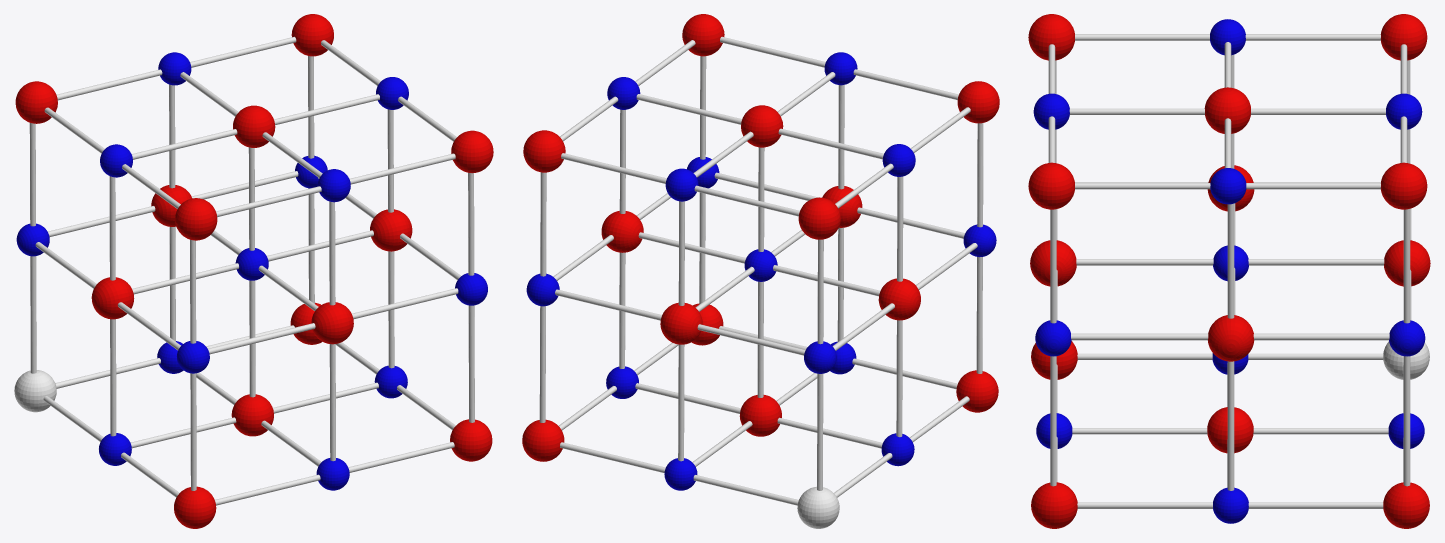
Rendered from iyonik kristal.gltf.
3 renders of one model, left to right at view 1: azimuth 30°, elevation 25°; view 2: azimuth 150°, elevation 25°; view 3: azimuth 270°, elevation 25°, orthographic. The views are drawn at different scales.
Parts seen in each view (by area): view 1: Sphere.007, Sphere.020, Sphere.003, Sphere.006, Sphere.023, Sphere.015, Sphere.012, Sphere.010, Sphere.017, Sphere.013, Sphere.027, Sphere.025 (+50 smaller); view 2: Sphere.015, Sphere.017, Sphere.010, Sphere.008, Sphere.029, Sphere.007, Sphere.003, Sphere.012, Sphere.020, Sphere.013, Sphere.027, Sphere.025 (+50 smaller); view 3: Sphere.020, Sphere.017, Sphere.006, Sphere.008, Sphere.025, Sphere.012, Sphere.007, Sphere.015, Sphere.023, Sphere.013, Sphere.029, Cylinder.053 (+34 smaller).
Boxes of the visible parts, x1,y1,x2,y2 form: Sphere.007: (175, 198, 217, 240); Sphere.020: (451, 130, 493, 173); Sphere.003: (174, 486, 216, 528); Sphere.006: (450, 419, 492, 461); Sphere.023: (311, 302, 353, 344); Sphere.015: (15, 81, 57, 123); Sphere.012: (233, 105, 275, 147); Sphere.010: (14, 370, 56, 412); Sphere.017: (291, 14, 333, 56); Sphere.013: (231, 394, 273, 436); Sphere.027: (91, 277, 134, 319); Sphere.025: (370, 209, 412, 251); Sphere.015: (798, 197, 840, 239); Sphere.017: (523, 130, 565, 172); Sphere.010: (797, 486, 839, 528); Sphere.008: (522, 419, 564, 461); Sphere.029: (660, 302, 702, 344); Sphere.007: (957, 81, 999, 123); Sphere.003: (956, 370, 998, 412); Sphere.012: (741, 105, 783, 147); Sphere.020: (682, 14, 724, 56); Sphere.013: (739, 395, 781, 436); Sphere.027: (878, 278, 920, 320); Sphere.025: (601, 211, 643, 252); Sphere.020: (1028, 162, 1074, 209); Sphere.017: (1380, 162, 1427, 209); Sphere.006: (1031, 482, 1077, 528); Sphere.008: (1383, 482, 1429, 528); Sphere.025: (1208, 315, 1254, 361); Sphere.012: (1204, 87, 1250, 133); Sphere.007: (1028, 14, 1074, 60); Sphere.015: (1380, 14, 1427, 60); Sphere.023: (1030, 240, 1076, 286); Sphere.013: (1207, 407, 1253, 453); Sphere.029: (1384, 240, 1430, 286); Cylinder.053: (1071, 333, 1208, 340).
Size of the model in its own units: 17.11 by 17.04 by 17.13.
